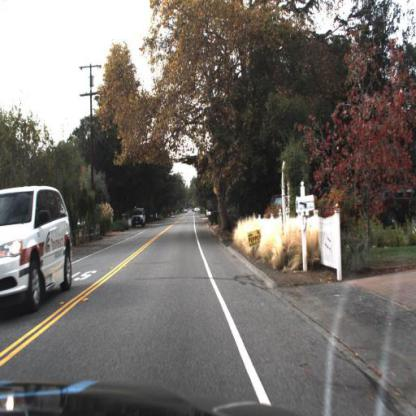car: (1, 188, 74, 315), (268, 192, 334, 227), (130, 205, 147, 229)
